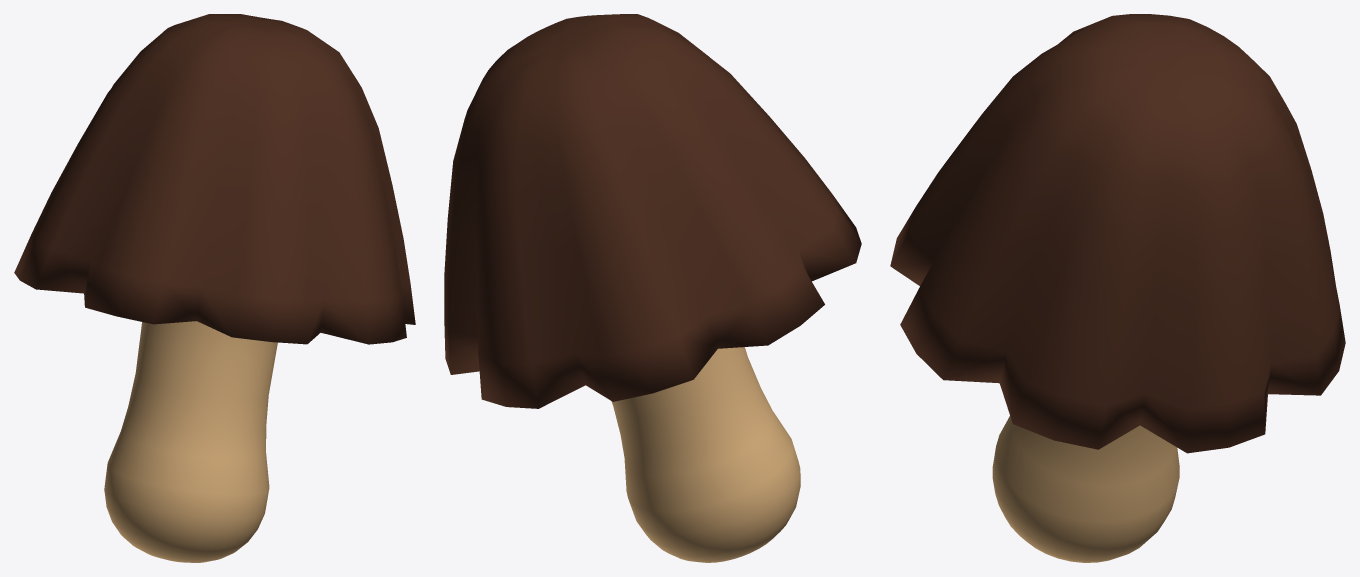
File: kinoko.fbx
3 views of the same model, side by side, from view 1: azimuth 30°, elevation 25°; view 2: azimuth 150°, elevation 25°; view 3: azimuth 270°, elevation 25° (orthographic). The views are drawn at different scales.
Visible parts, largest first — view 1: 平面|円.008|Dupli|8.001; view 2: 平面|円.008|Dupli|8.001; view 3: 平面|円.008|Dupli|8.001.
Part boxes in pixels (x1=…): 平面|円.008|Dupli|8.001: x1=14, y1=14, x2=415, y2=562; 平面|円.008|Dupli|8.001: x1=444, y1=14, x2=861, y2=562; 平面|円.008|Dupli|8.001: x1=890, y1=14, x2=1345, y2=562.
Size of the model in its own units: 13.81 by 19.16 by 14.09.
